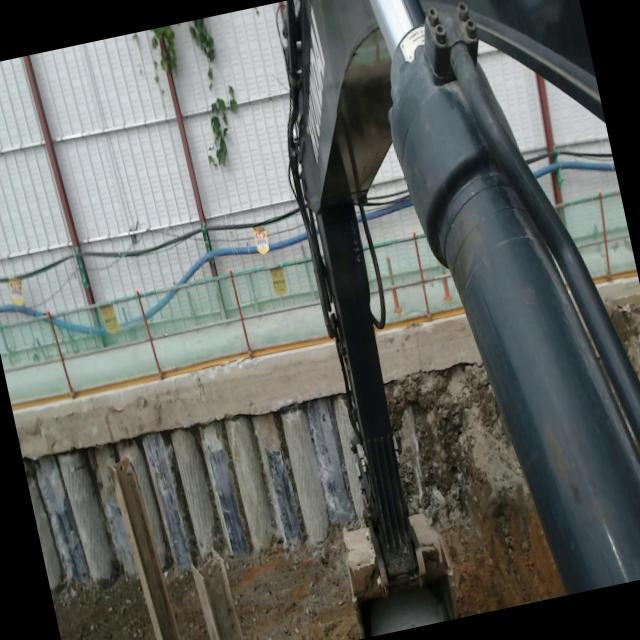red-sand: (440, 493, 564, 618), (227, 532, 360, 640), (51, 573, 155, 640), (167, 572, 210, 640)
